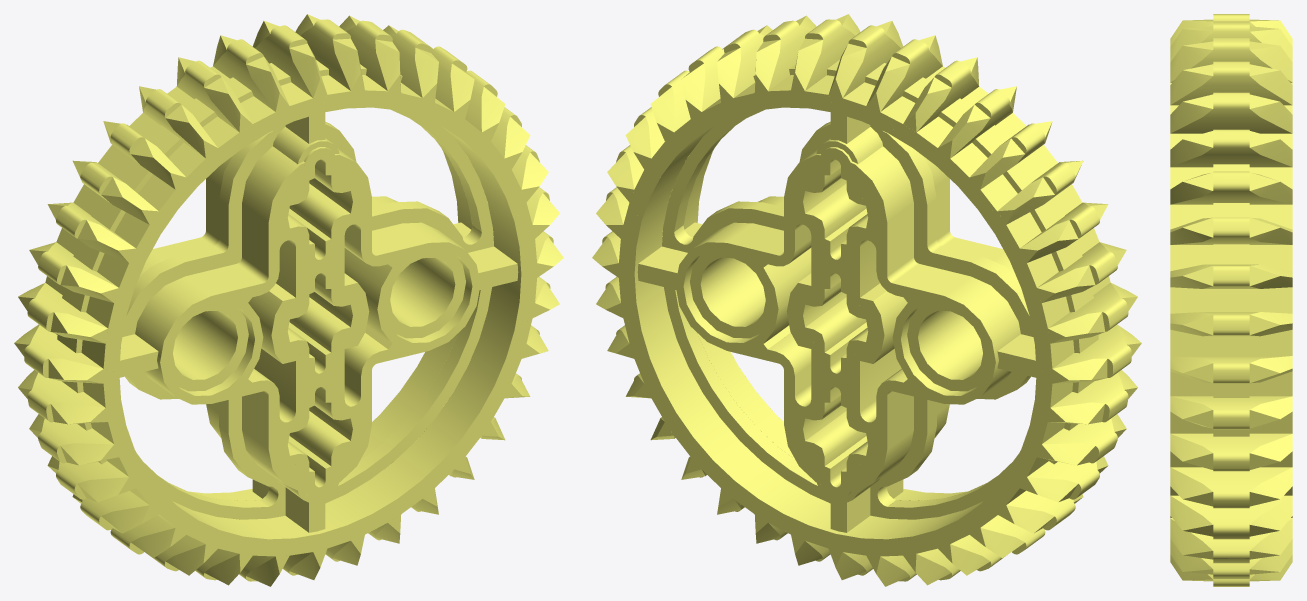
3 views of the same model, side by side, from view 1: azimuth 30°, elevation 25°; view 2: azimuth 150°, elevation 25°; view 3: azimuth 270°, elevation 25° (orthographic). The views are drawn at different scales.
Parts seen in each view (by area): view 1: 32498.dat; view 2: 32498.dat; view 3: 32498.dat.
Part boxes in pixels (x1,y1,x2,y2): 32498.dat: [14, 14, 563, 586]; 32498.dat: [592, 14, 1141, 586]; 32498.dat: [1170, 14, 1292, 586].
Bounding box in the file's own units: 0.0376 × 0.0376 × 0.008.
